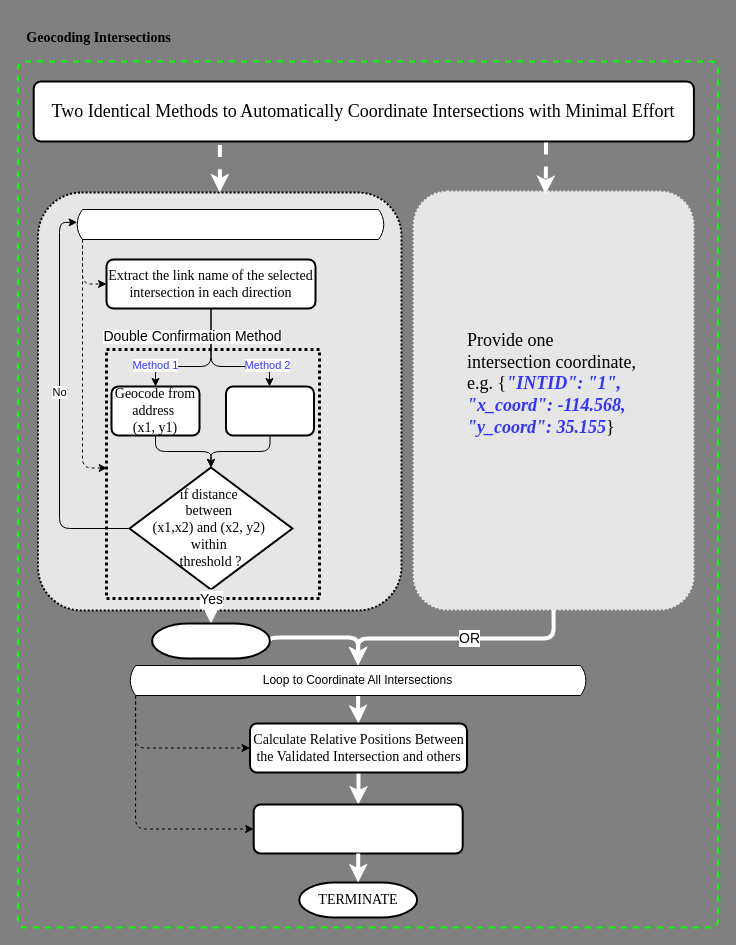
This 736x945 diagram has some shape labels left out. Here are the shapes that lost their labels. From the top down, the centre of each, then its label:
(x=230, y=224): Loop Each Intersection
(x=269, y=410): Geocode from address (x2, y2)
(x=210, y=640): End Loop
(x=357, y=828): Update Coordinates from Relative Positions and the Validated Coordinate
